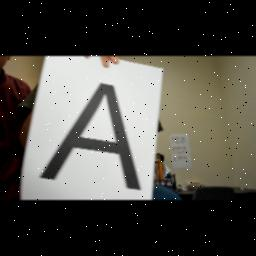a: (50, 76, 150, 192)
